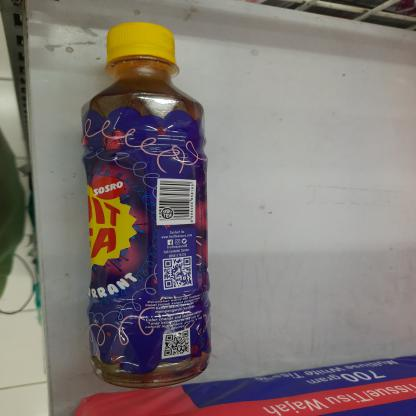bottle: (78, 16, 219, 392)
